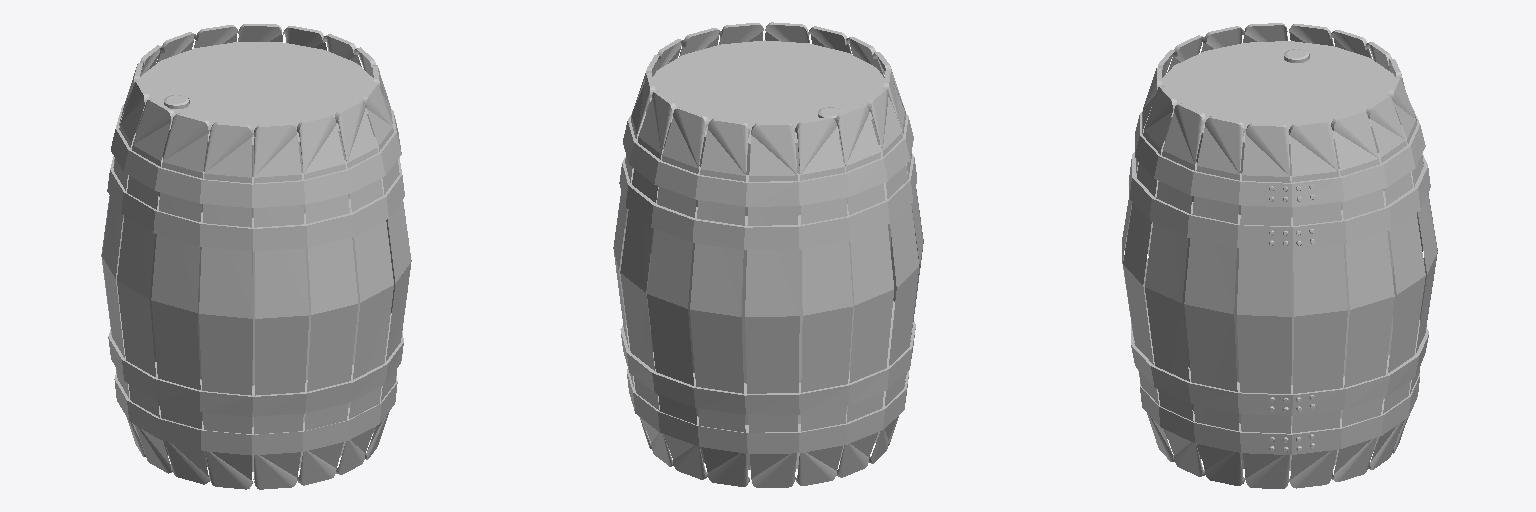
Rendered from barrel.obj.
3 renders of one model, left to right at view 1: azimuth 30°, elevation 25°; view 2: azimuth 150°, elevation 25°; view 3: azimuth 270°, elevation 25°, orthographic.
Visible parts, largest first — view 1: Tablas, Cintas; view 2: Tablas, Cintas; view 3: Tablas, Cintas.
Part boxes in pixels (left/top/right/bottom): Tablas: left=101, top=24, right=411, bottom=489; Cintas: left=107, top=105, right=404, bottom=455; Tablas: left=613, top=22, right=923, bottom=487; Cintas: left=619, top=102, right=916, bottom=453; Tablas: left=1122, top=23, right=1437, bottom=488; Cintas: left=1129, top=103, right=1430, bottom=454.
Bounding box in the file's own units: 2.34 × 3.03 × 2.39.